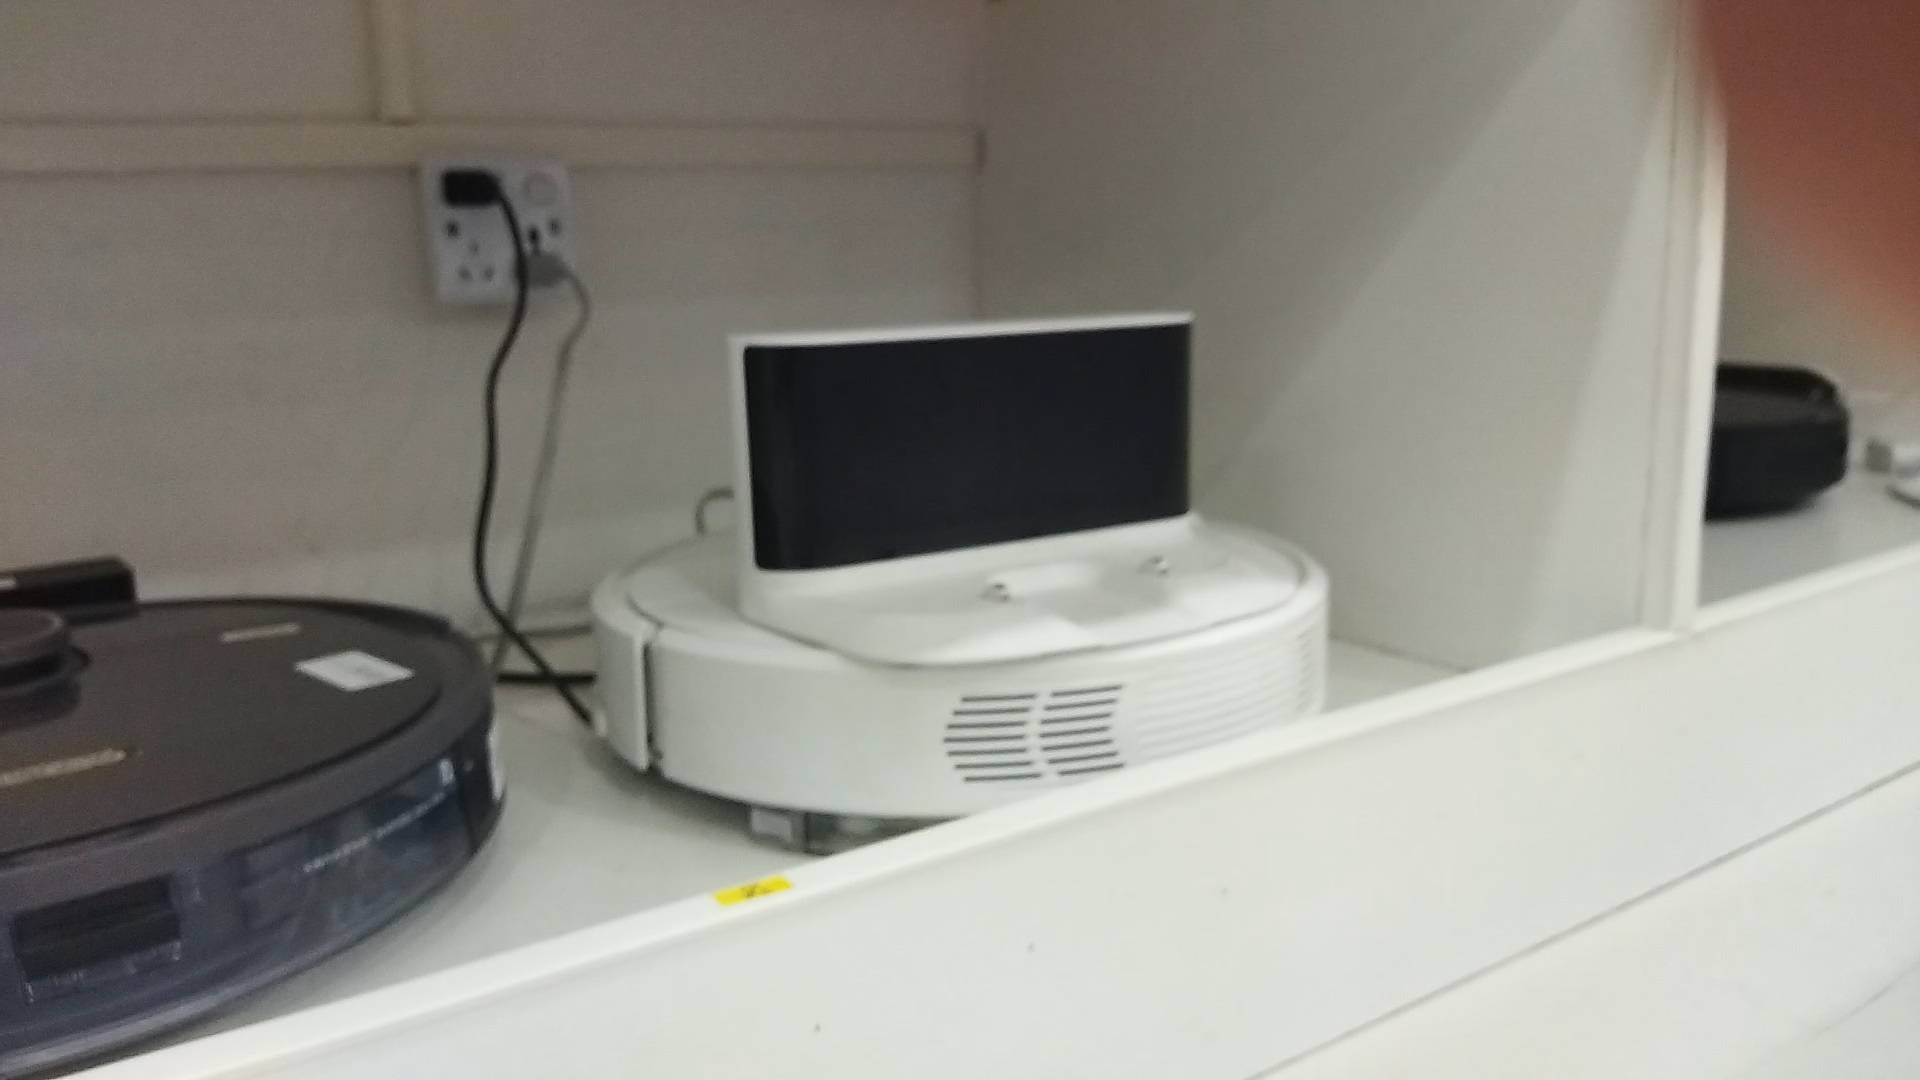recharge seat: (729, 305, 1296, 669)
